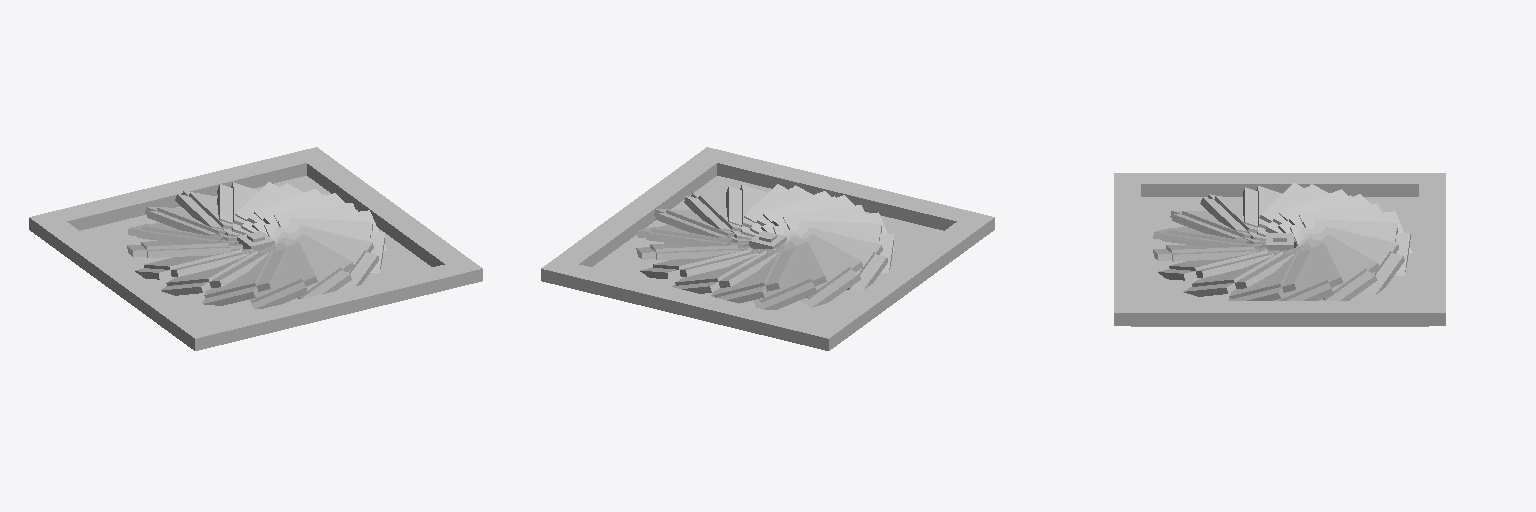
File: meat1.obj
3 views of the same model, side by side, from view 1: azimuth 30°, elevation 25°; view 2: azimuth 150°, elevation 25°; view 3: azimuth 270°, elevation 25° (orthographic).
Parts seen in each view (by area): view 1: Box001, Plane007, Plane006, Plane008, Plane009, Plane005, Plane004, Plane010, Plane018, Plane011, Plane012, Plane015 (+4 smaller); view 2: Box001, Plane018, Plane017, Plane016, Plane004, Plane015, Plane014, Plane005, Plane006, Plane013, Plane007, Plane010 (+4 smaller); view 3: Box001, Plane013, Plane014, Plane011, Plane010, Plane012, Plane015, Plane009, Plane016, Plane008, Plane017, Plane018 (+4 smaller).
Boxes of the visible parts, <box> form: Box001: <box>29,147,482,350</box>; Plane007: <box>249,242,317,308</box>; Plane006: <box>202,246,286,305</box>; Plane008: <box>273,234,353,299</box>; Plane009: <box>275,225,378,289</box>; Plane005: <box>161,249,268,295</box>; Plane004: <box>135,249,253,279</box>; Plane010: <box>273,218,384,272</box>; Plane018: <box>127,241,242,257</box>; Plane011: <box>264,203,386,250</box>; Plane012: <box>252,189,344,234</box>; Plane015: <box>175,191,241,236</box>; Box001: <box>541,147,994,350</box>; Plane018: <box>781,234,862,307</box>; Plane017: <box>753,241,826,309</box>; Plane016: <box>711,246,795,303</box>; Plane004: <box>786,228,887,291</box>; Plane015: <box>672,248,777,293</box>; Plane014: <box>640,248,762,278</box>; Plane005: <box>783,220,893,272</box>; Plane006: <box>773,205,894,250</box>; Plane013: <box>636,243,751,259</box>; Plane007: <box>761,191,854,232</box>; Plane010: <box>684,193,753,239</box>; Box001: <box>1114,173,1445,326</box>; Plane013: <box>1296,235,1379,300</box>; Plane014: <box>1297,226,1404,294</box>; Plane011: <box>1228,247,1311,300</box>; Plane010: <box>1183,250,1293,296</box>; Plane012: <box>1274,243,1342,300</box>; Plane015: <box>1298,219,1410,275</box>; Plane009: <box>1158,250,1279,280</box>; Plane016: <box>1290,203,1412,253</box>; Plane008: <box>1153,245,1267,261</box>; Plane017: <box>1278,189,1370,247</box>; Plane018: <box>1259,183,1329,232</box>.
Size of the model in its own units: 0.744 by 0.1192 by 0.744.